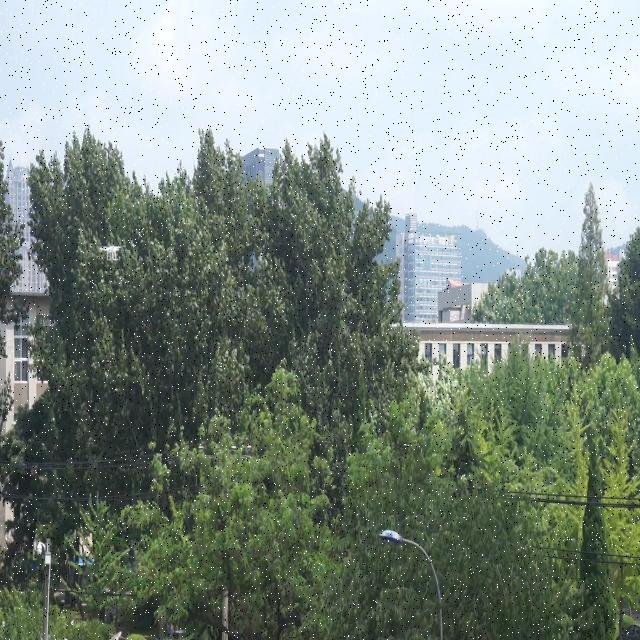UAV: (100, 246, 122, 261)
